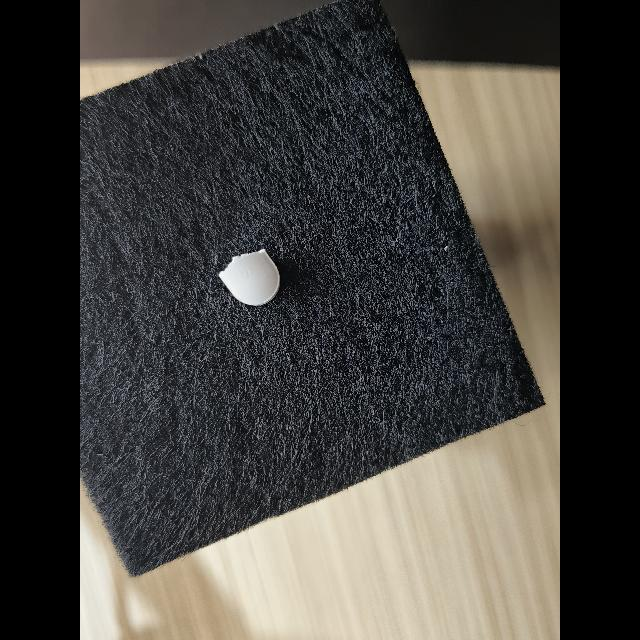Chipped Pill: (219, 249, 280, 306)
